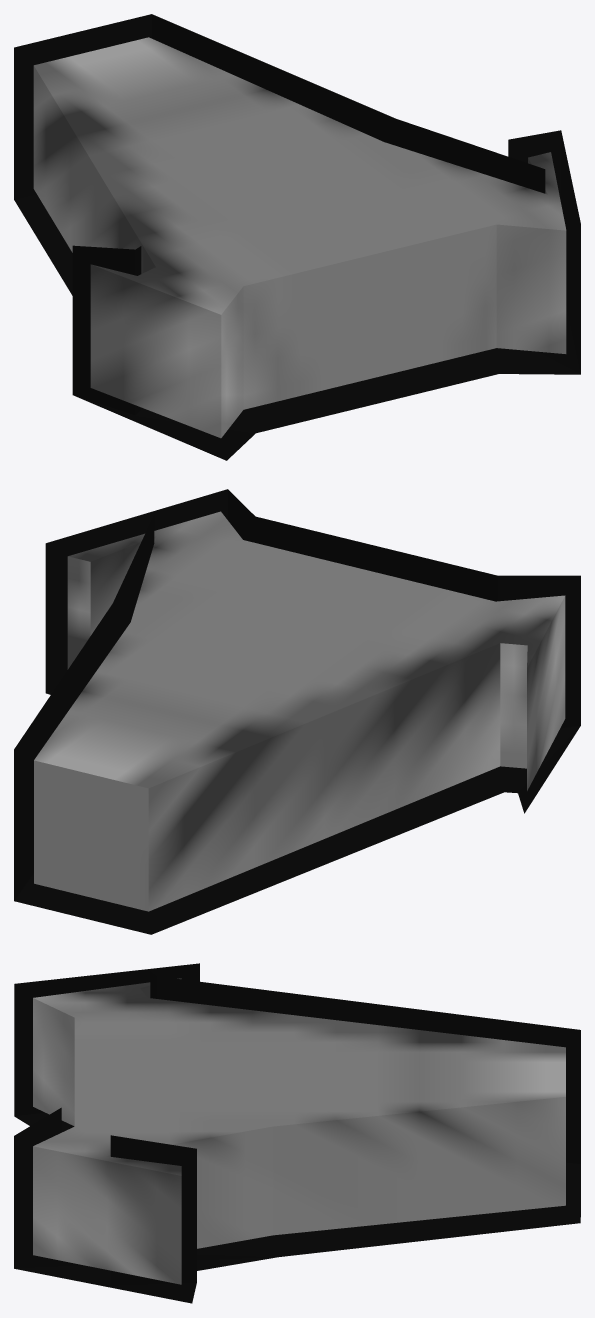
File: Building_Turret_TacticalTurret_Things_Building_TacticalTurret_TacticalTurret_Base.glb
3 views of the same model, one above another, from view 1: azimuth 30°, elevation 25°; view 2: azimuth 150°, elevation 25°; view 3: azimuth 270°, elevation 25° (orthographic). The views are drawn at different scales.
Parts seen in each view (by area): view 1: Body, Outline; view 2: Body, Outline; view 3: Body, Outline.
Boxes of the visible parts, box(x1,y1,x2,y2) form: Body: box(33, 37, 566, 438); Outline: box(14, 14, 580, 460); Body: box(34, 511, 565, 911); Outline: box(14, 489, 580, 934); Body: box(33, 978, 565, 1284); Outline: box(14, 963, 580, 1303).
Size of the model in its own units: 0.3287 by 0.1108 by 0.3784.
2 materials, 1 textured.
